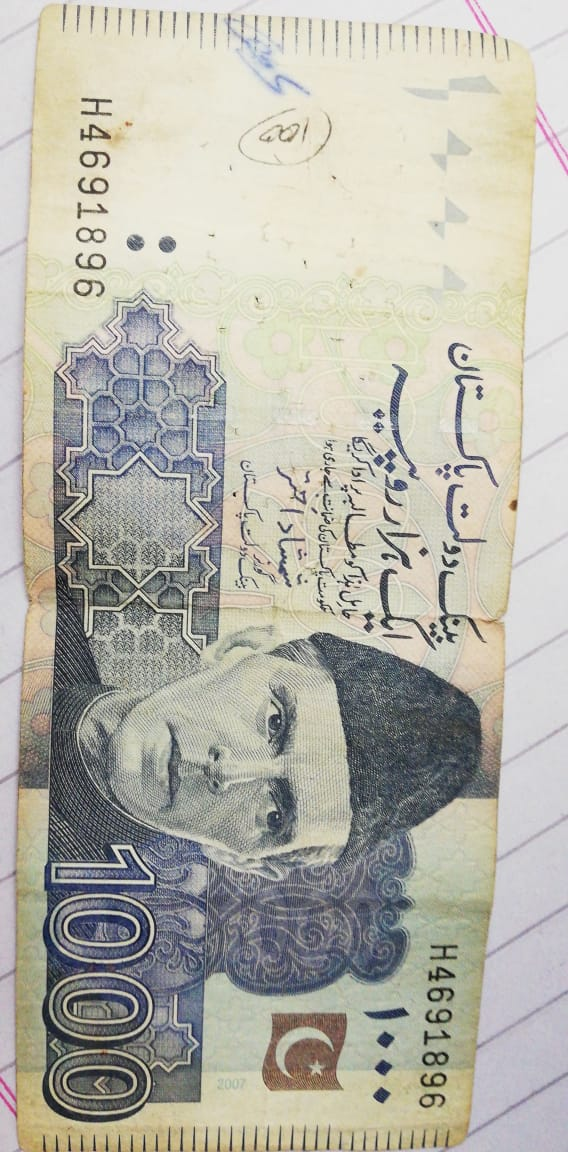1000 rupee: (12, 17, 507, 1137)
